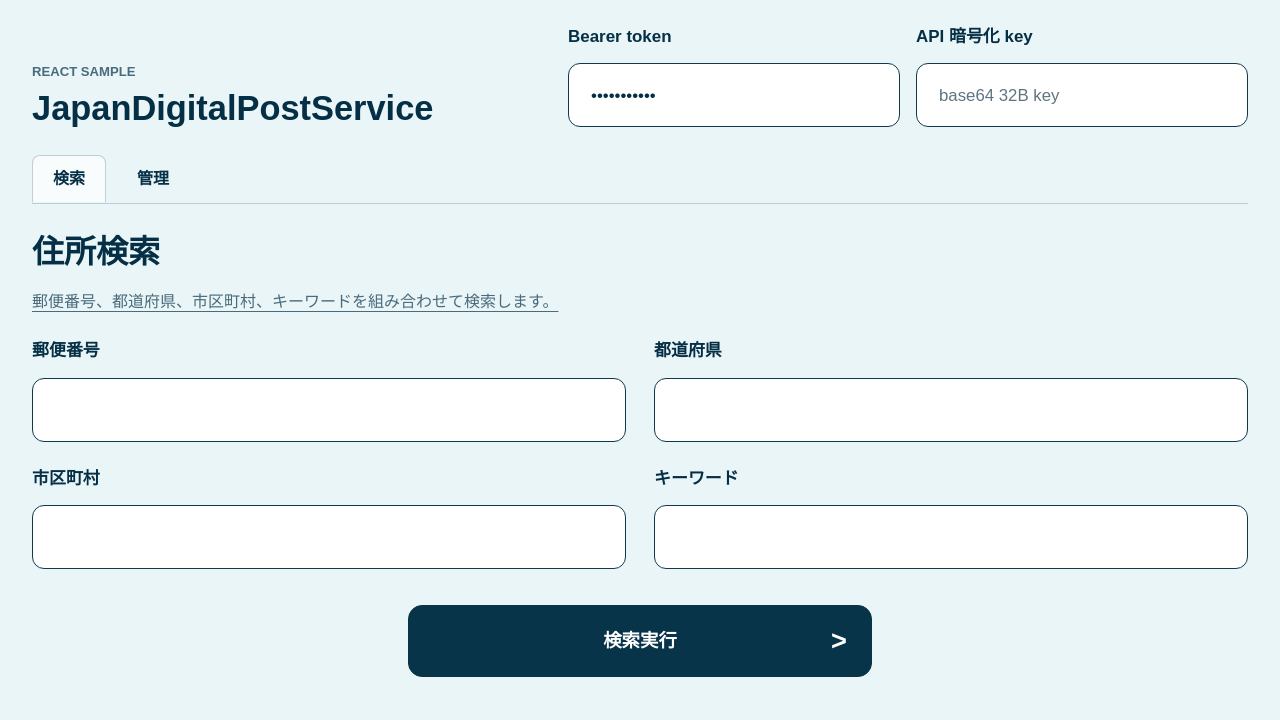
Scenario: App › shows sync status and run history in admin
Click the button "管理". click: [153, 179]
box: [116,155,190,203]
(page scrolled)
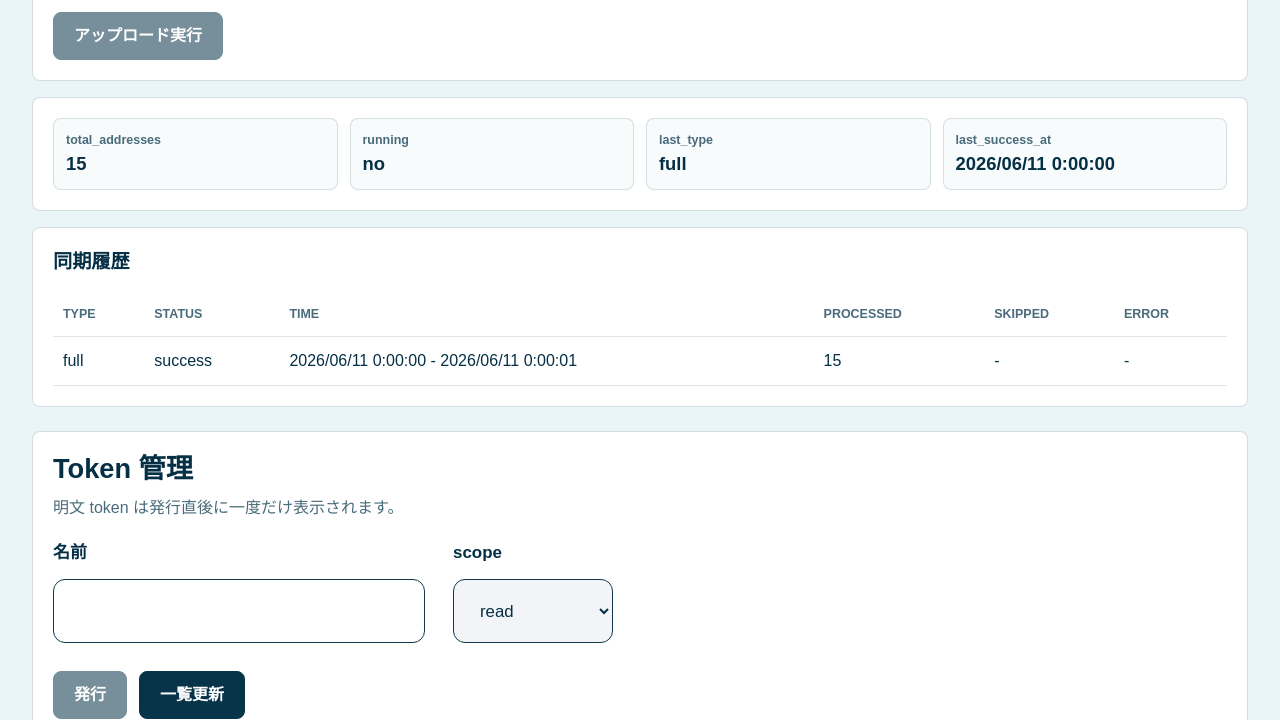
Now the text "total_addresses" is shown, box [66,133,161,147]
Now the text "full" is shown, box [659,152,687,174]
Now the text "success" is shown, box [144,336,279,385]
